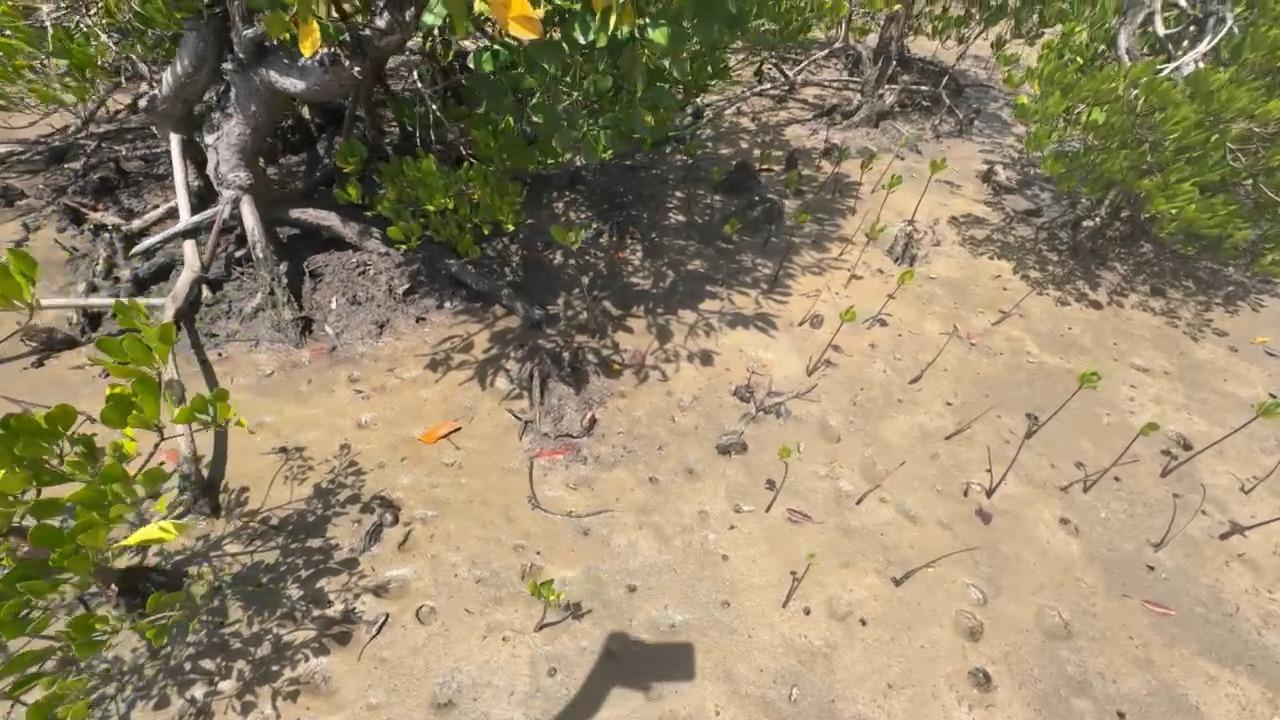Tree: (1162, 396, 1280, 477), (962, 410, 1040, 498), (1073, 418, 1158, 493), (1027, 369, 1101, 438), (1147, 481, 1208, 553), (805, 305, 857, 376), (891, 548, 978, 588), (869, 132, 924, 195), (908, 324, 964, 384), (845, 215, 888, 289), (907, 155, 949, 227), (774, 212, 812, 282), (766, 444, 800, 514), (857, 458, 906, 505), (528, 578, 568, 632), (814, 146, 853, 194), (1217, 513, 1280, 541), (946, 406, 994, 441), (854, 154, 880, 212), (824, 139, 848, 196), (877, 174, 903, 221), (721, 215, 741, 263), (890, 269, 913, 297), (799, 554, 818, 586)
